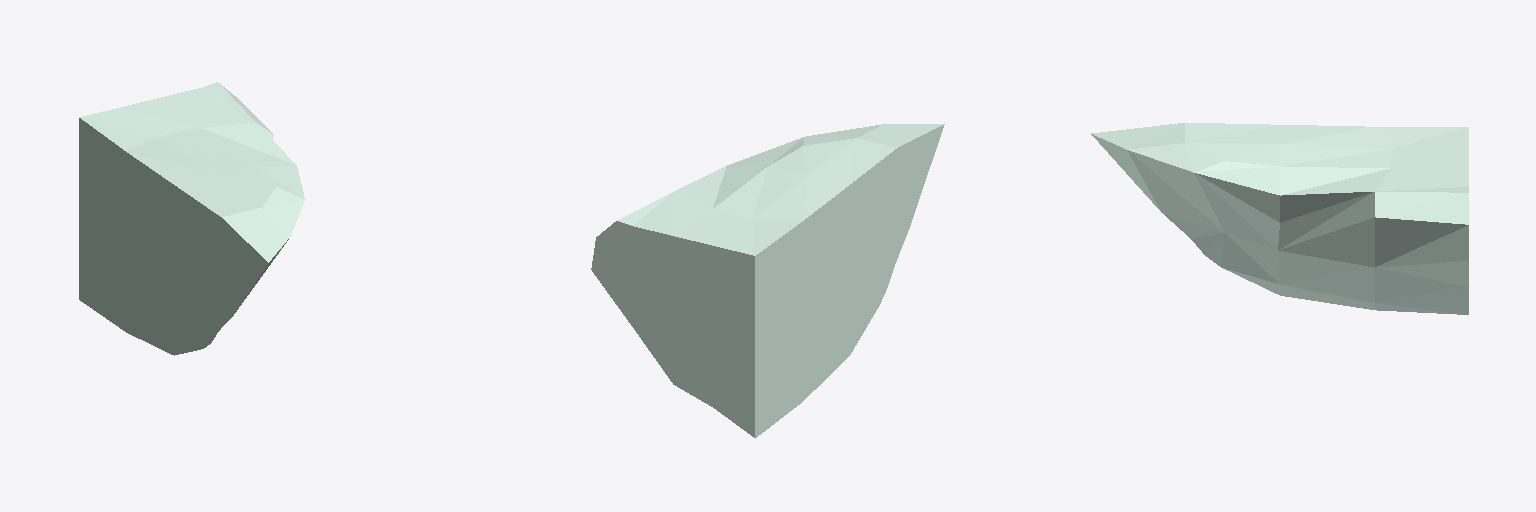
File: frontLeft.obj
3 views of the same model, side by side, from view 1: azimuth 30°, elevation 25°; view 2: azimuth 150°, elevation 25°; view 3: azimuth 270°, elevation 25° (orthographic).
Parts seen in each view (by area): view 1: Cube_Front_L_Cube.002; view 2: Cube_Front_L_Cube.002; view 3: Cube_Front_L_Cube.002.
Boxes of the visible parts, box(x1,y1,x2,y2) form: Cube_Front_L_Cube.002: box(79, 82, 304, 355); Cube_Front_L_Cube.002: box(591, 124, 944, 438); Cube_Front_L_Cube.002: box(1091, 123, 1468, 314).
Size of the model in its own units: 1 by 1.09 by 2.